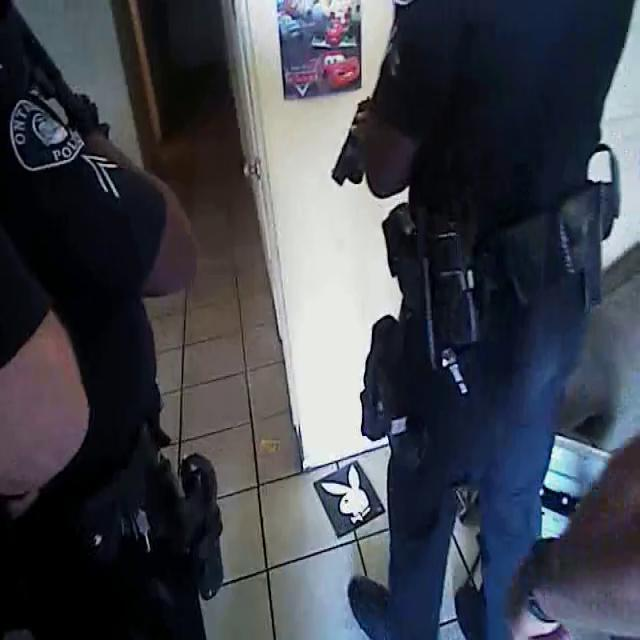gun: (312, 68, 402, 212)
